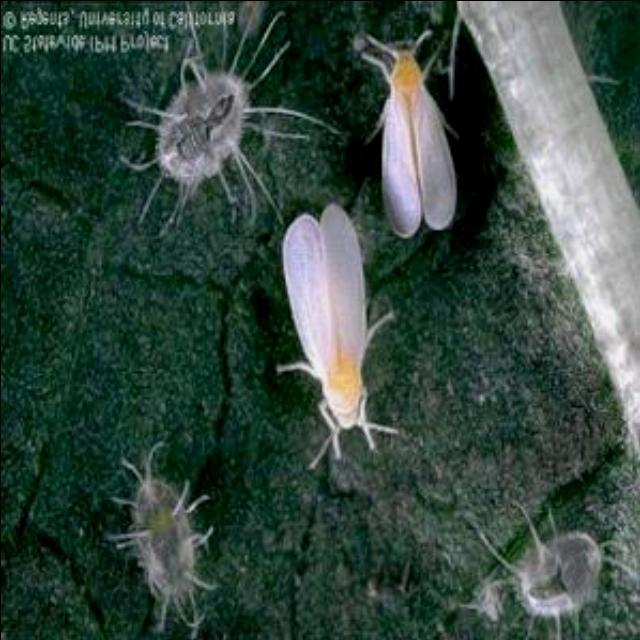Silverleaf whitefly: (256, 188, 389, 490), (116, 25, 302, 233), (350, 31, 480, 248), (100, 449, 224, 623), (470, 502, 618, 638)
